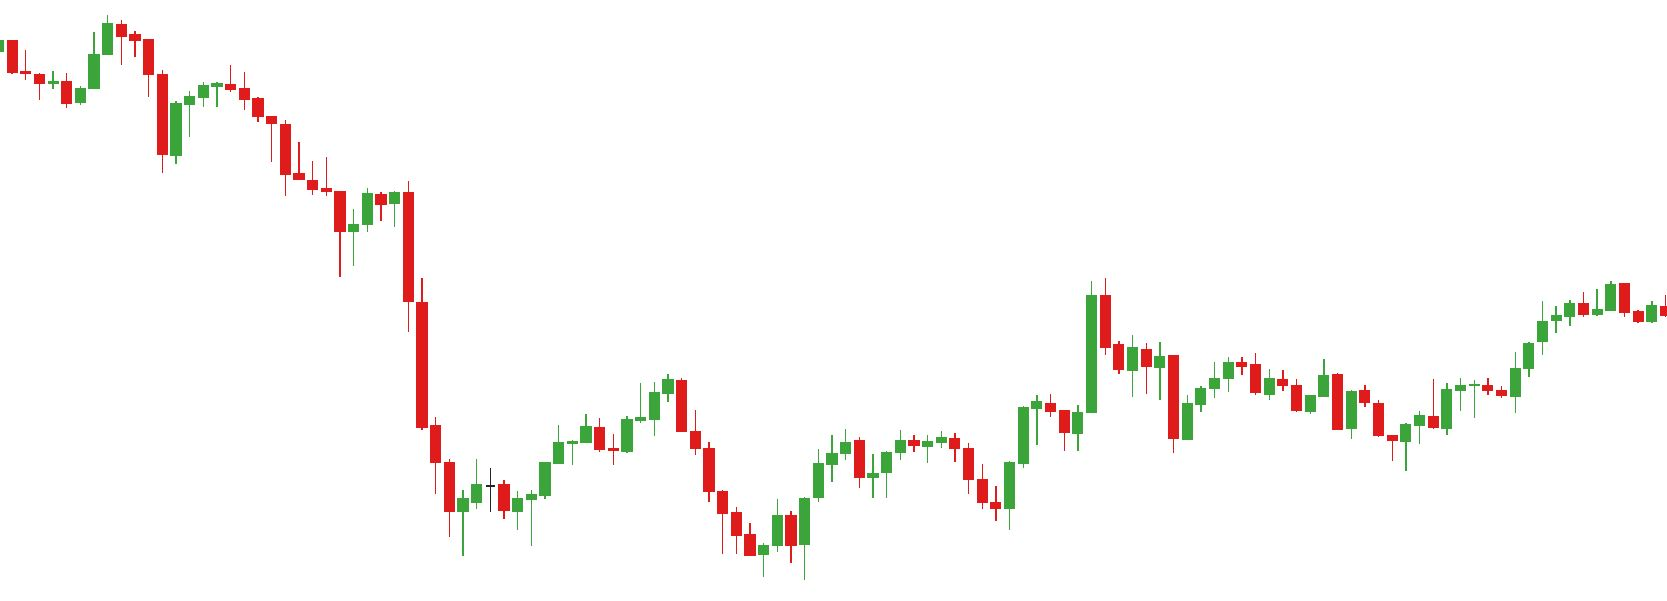buy: (521, 441, 782, 582)
